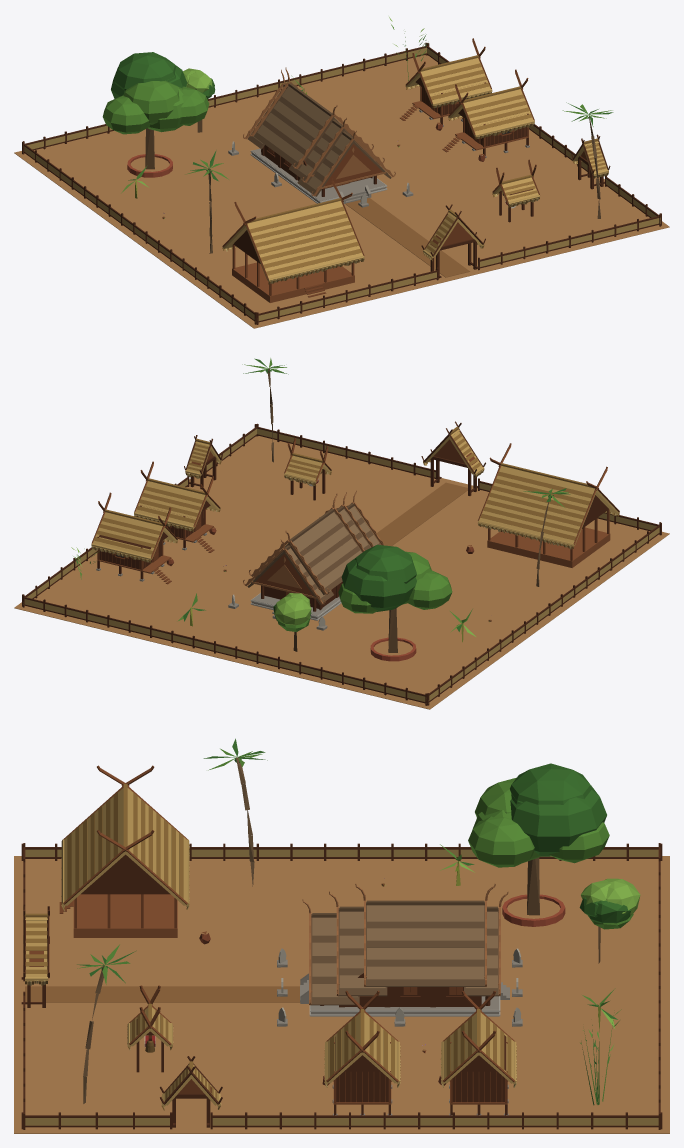
File: temple_1.glb
The picture shows the model from 3 angles, top to bottom: view 1: azimuth 30°, elevation 25°; view 2: azimuth 150°, elevation 25°; view 3: azimuth 270°, elevation 25°; orthographic projection. The views are drawn at different scales.
Visible parts, largest first — view 1: body; view 2: body; view 3: body.
Part boxes in pixels (left/top/right/bottom): body: left=14, top=17, right=669, bottom=328; body: left=14, top=358, right=669, bottom=709; body: left=14, top=738, right=669, bottom=1133.
Size of the model in its own units: 47.9 by 12.02 by 47.9.
